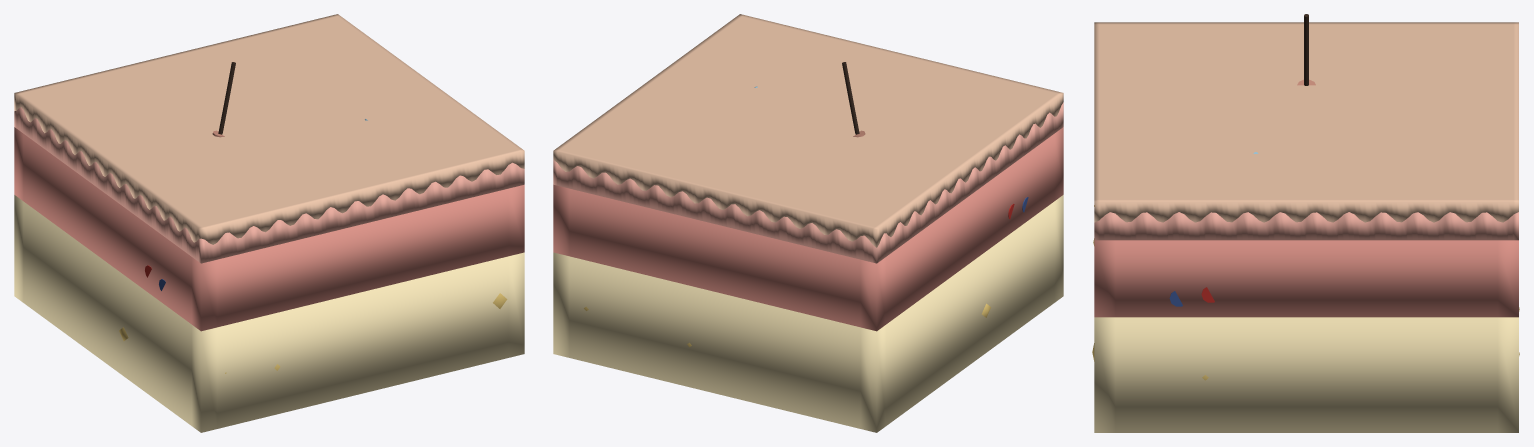
File: skin_crosssection.glb
3 renders of one model, left to right at view 1: azimuth 30°, elevation 25°; view 2: azimuth 150°, elevation 25°; view 3: azimuth 270°, elevation 25°, orthographic. The views are drawn at different scales.
Parts seen in each view (by area): view 1: epidermis, hypodermis, reticular_dermis, papillary_dermis; view 2: epidermis, hypodermis, reticular_dermis, papillary_dermis; view 3: epidermis, hypodermis, reticular_dermis, papillary_dermis.
Boxes of the visible parts, x1,y1,x2,y2 form: epidermis: [14, 14, 524, 244]; hypodermis: [14, 195, 524, 432]; reticular_dermis: [14, 127, 524, 331]; papillary_dermis: [14, 107, 524, 263]; epidermis: [553, 14, 1063, 247]; hypodermis: [553, 195, 1063, 432]; reticular_dermis: [553, 127, 1063, 331]; papillary_dermis: [553, 102, 1063, 263]; epidermis: [1094, 22, 1518, 222]; hypodermis: [1094, 317, 1518, 432]; reticular_dermis: [1094, 240, 1518, 317]; papillary_dermis: [1094, 212, 1518, 240].
Size of the model in its own units: 0.0201 by 0.016 by 0.0201.
